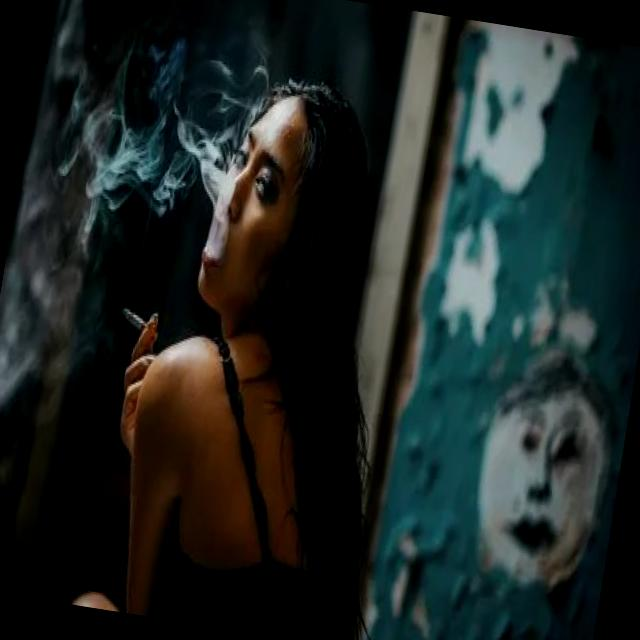smoke: (116, 300, 166, 344)
